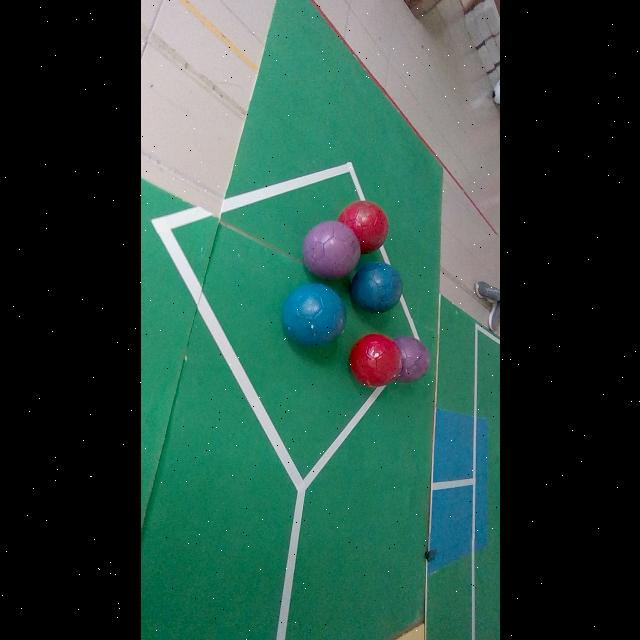B: (282, 283, 346, 346), (351, 261, 403, 313)
P: (303, 221, 361, 279), (394, 336, 431, 383)
R: (349, 334, 401, 387), (338, 200, 389, 254)
